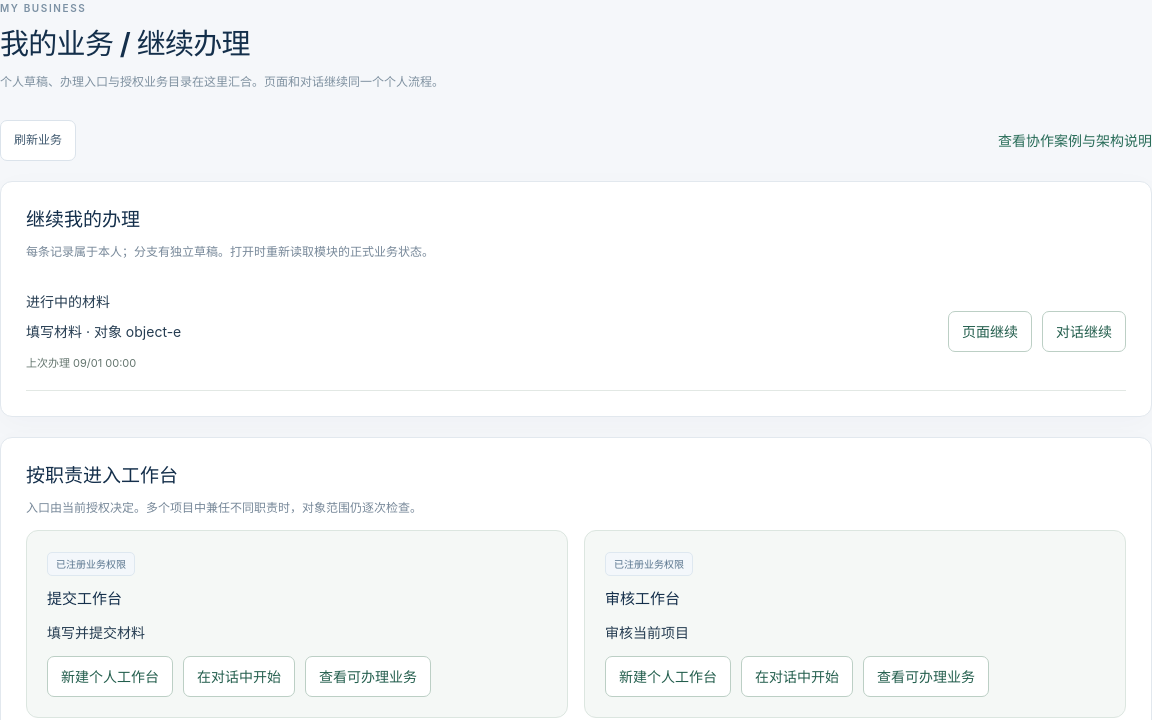
Test: 我的业务统一续办 › 对话状态并发冲突时留在业务中心并展示错误
Expected: the text "进行中的材料" is shown, [26,293,110,310]
Click the button "对话继续". click: point(1084, 332)
box: [1042,311,1126,352]
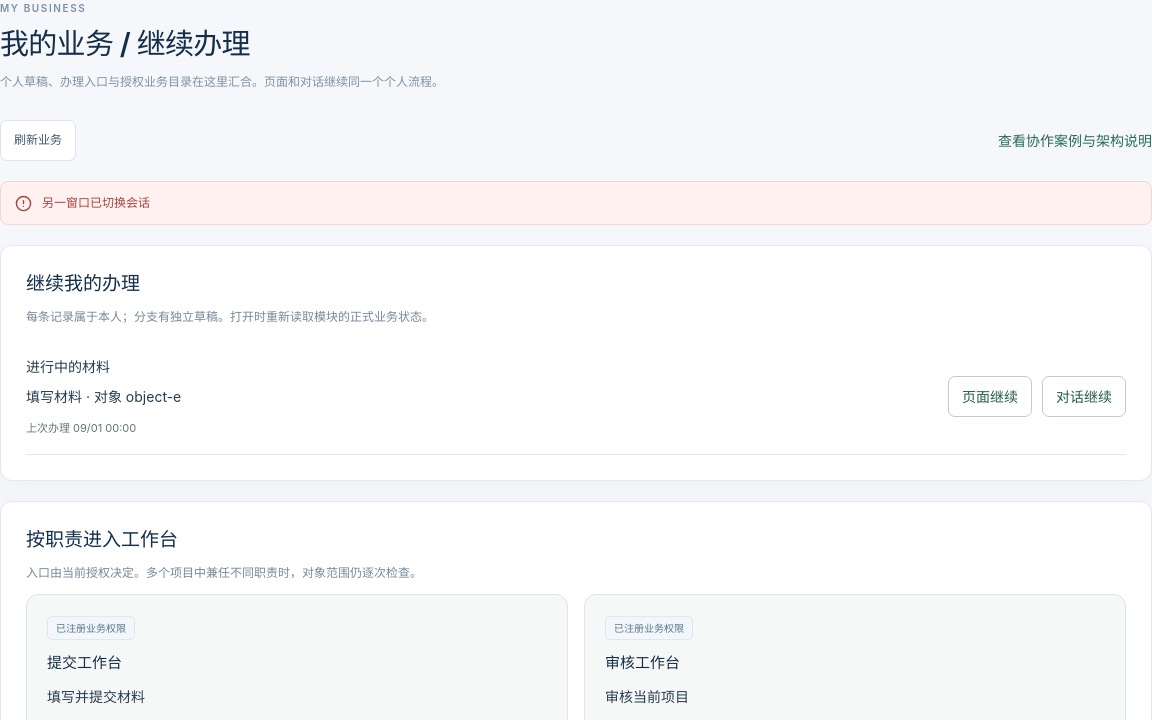
Expected: the text "另一窗口已切换会话" is shown, [42,195,150,210]
